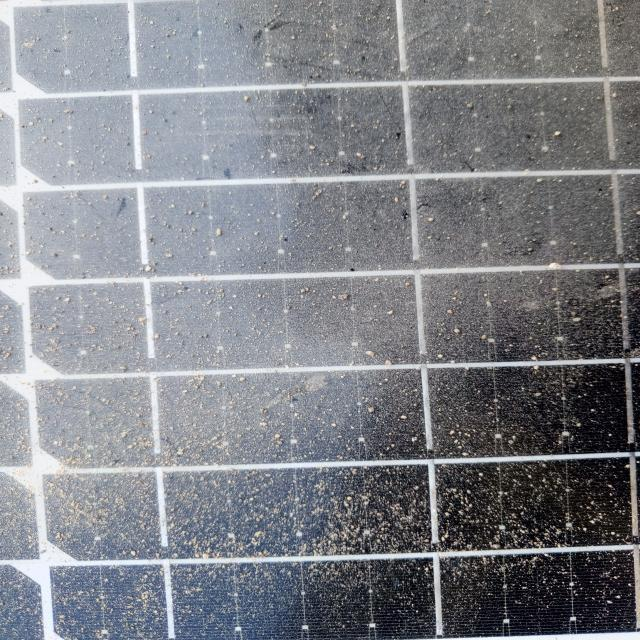Surface Contaminant: (60, 56, 639, 637)
